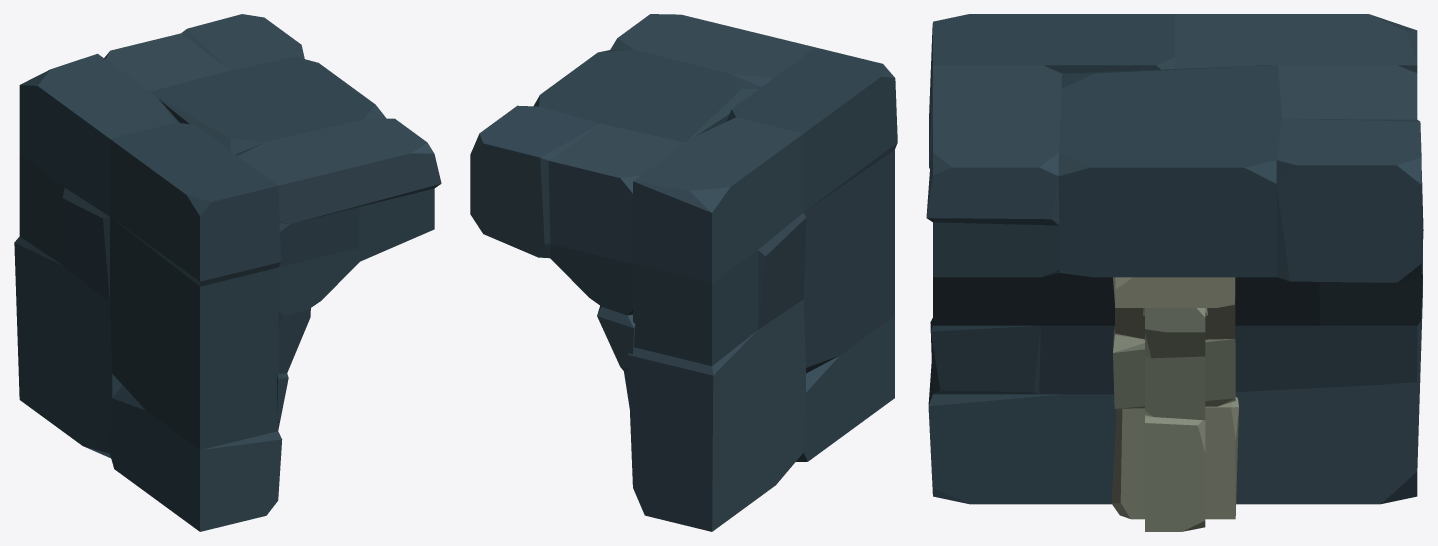
The model's file is ceiling_arch.fbx.
3 views of the same model, side by side, from view 1: azimuth 30°, elevation 25°; view 2: azimuth 150°, elevation 25°; view 3: azimuth 270°, elevation 25° (orthographic). The views are drawn at different scales.
Parts seen in each view (by area): view 1: ceiling_arch; view 2: ceiling_arch; view 3: ceiling_arch.
Part boxes in pixels (x1,y1,x2,y2): ceiling_arch: (14,14,441,531); ceiling_arch: (470,14,897,531); ceiling_arch: (926,14,1423,531).
Size of the model in its own units: 312 by 406 by 410.
